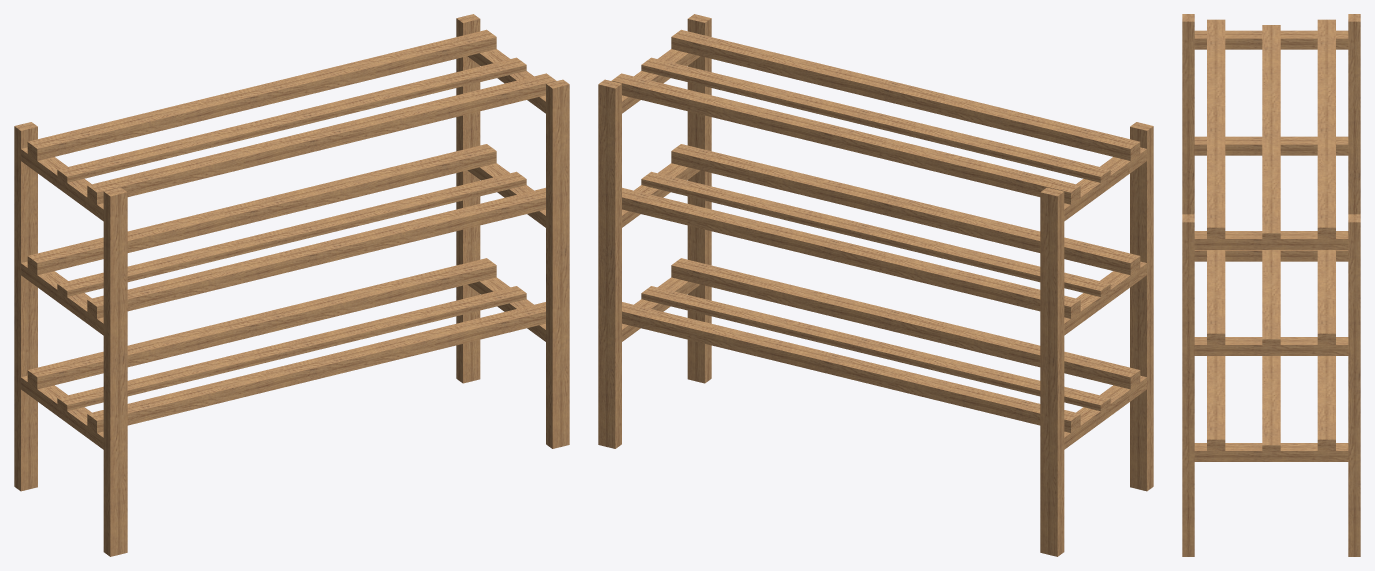
The model's file is shoe7.glb.
3 views of the same model, side by side, from view 1: azimuth 30°, elevation 25°; view 2: azimuth 150°, elevation 25°; view 3: azimuth 270°, elevation 25° (orthographic). The views are drawn at different scales.
Visible parts, largest first — view 1: mesh_0, mesh_1; view 2: mesh_0, mesh_1; view 3: mesh_0, mesh_1.
Boxes of the visible parts, x1=… form: mesh_0: x1=14, y1=14, x2=569, y2=437; mesh_1: x1=14, y1=18, x2=569, y2=556; mesh_0: x1=598, y1=14, x2=1153, y2=448; mesh_1: x1=615, y1=18, x2=1153, y2=556; mesh_0: x1=1182, y1=14, x2=1360, y2=450; mesh_1: x1=1182, y1=21, x2=1360, y2=556.
Bounding box in the file's own units: 0.8 × 0.6 × 0.29.
Materials: 2 (2 with a texture image).
